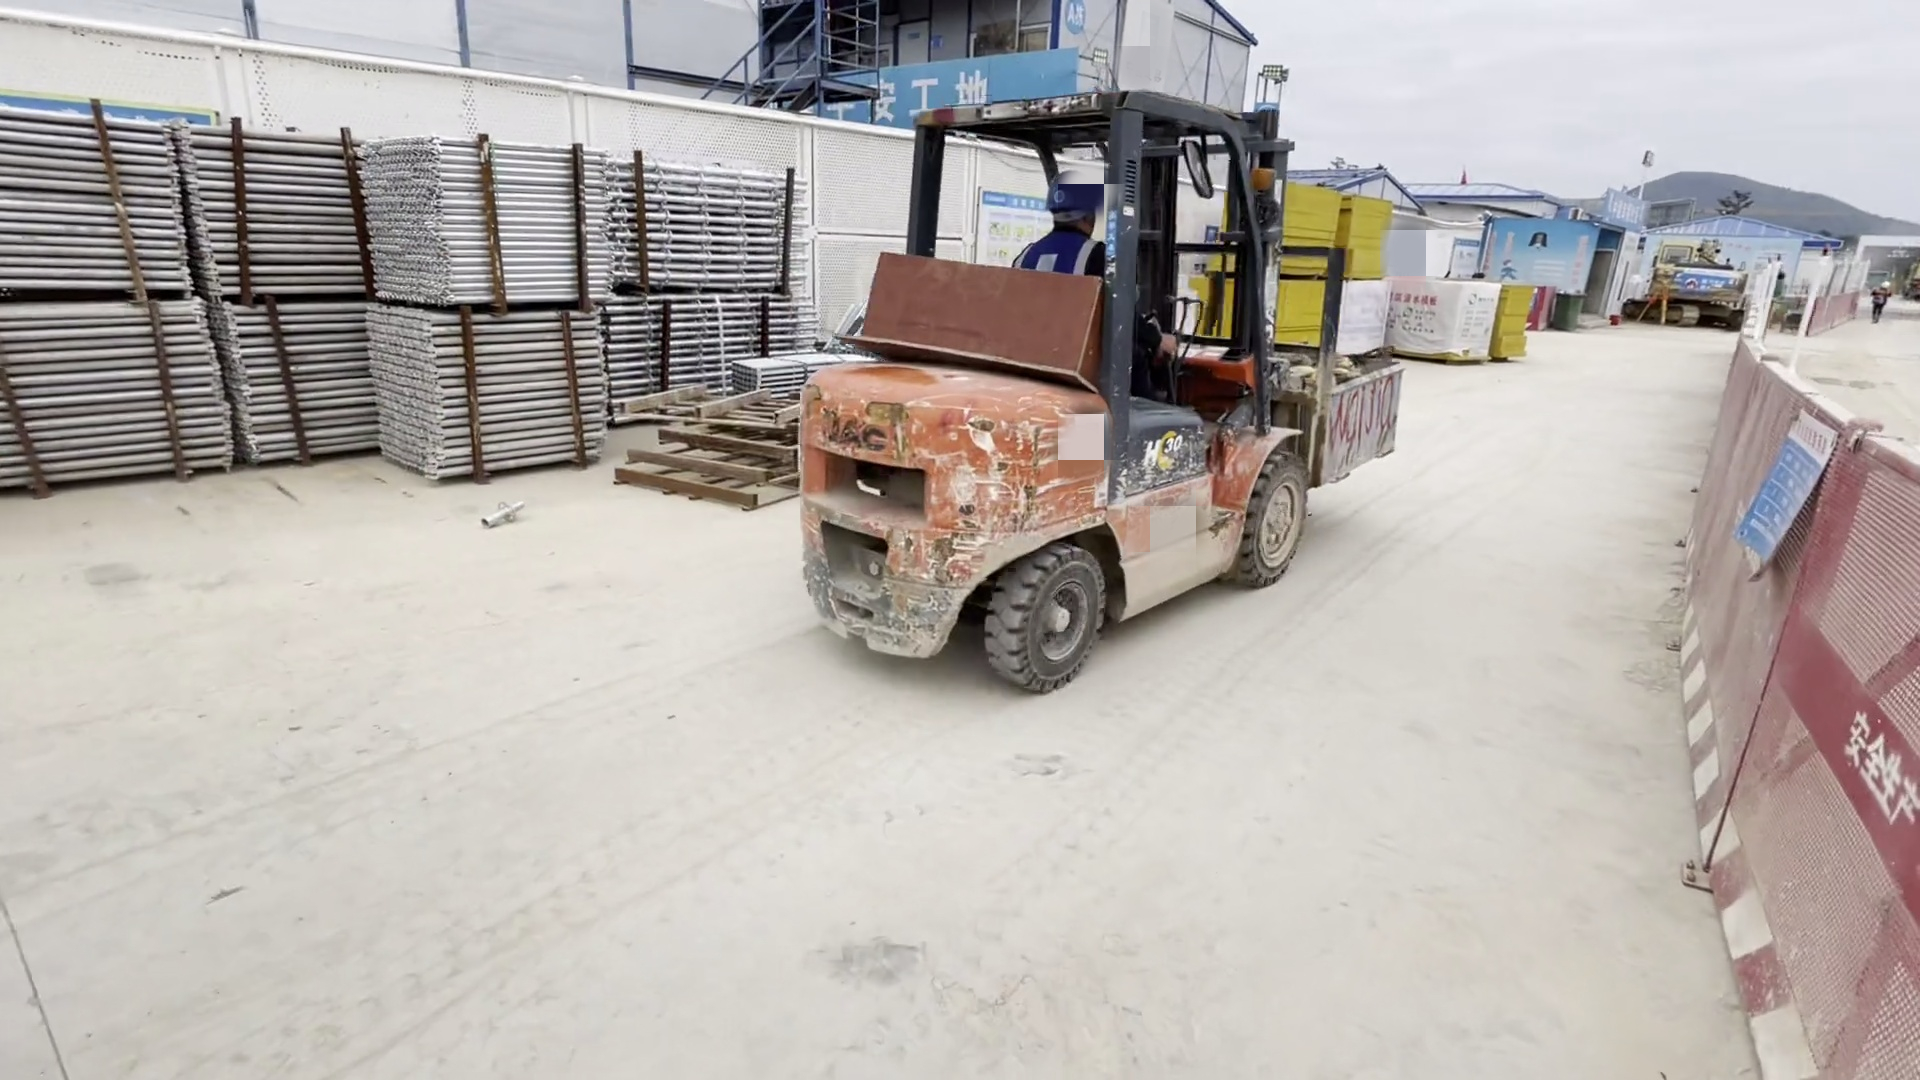scaffold: (22, 112, 808, 468)
